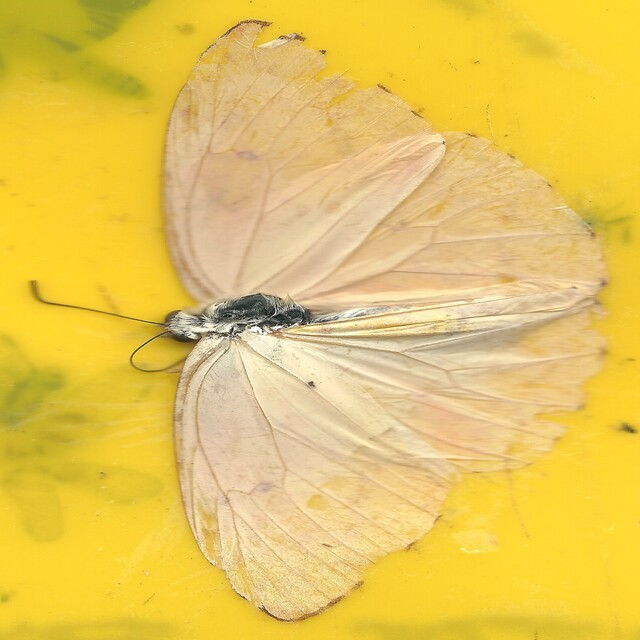Lepidoptera: (28, 18, 612, 622)
